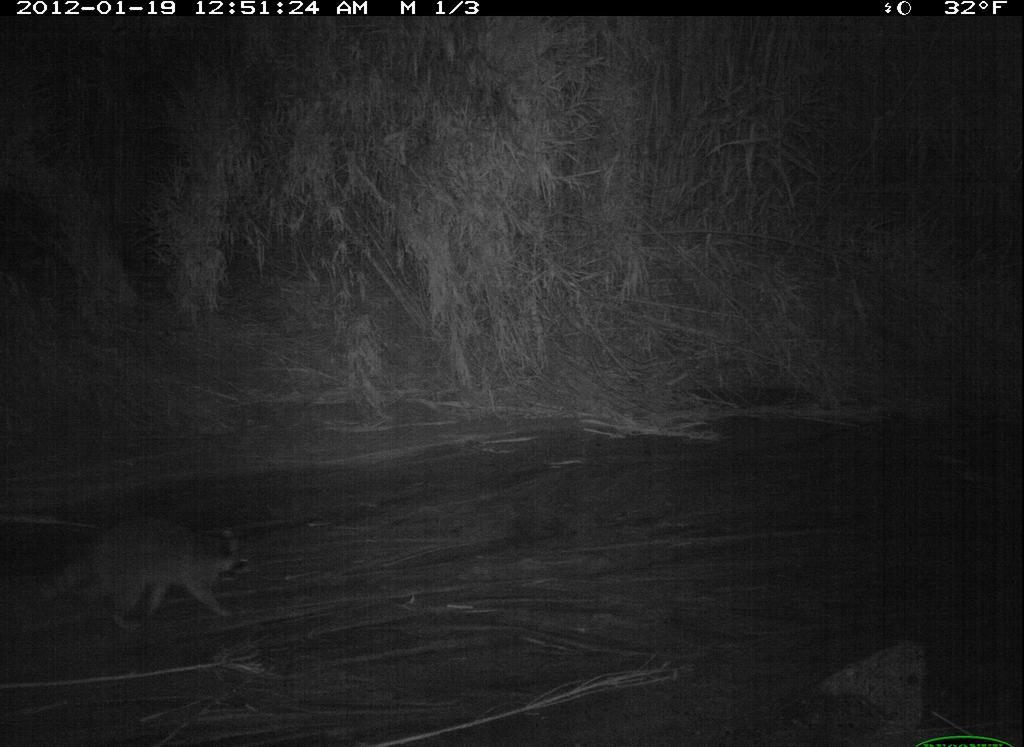raccoon: (15, 506, 262, 642)
